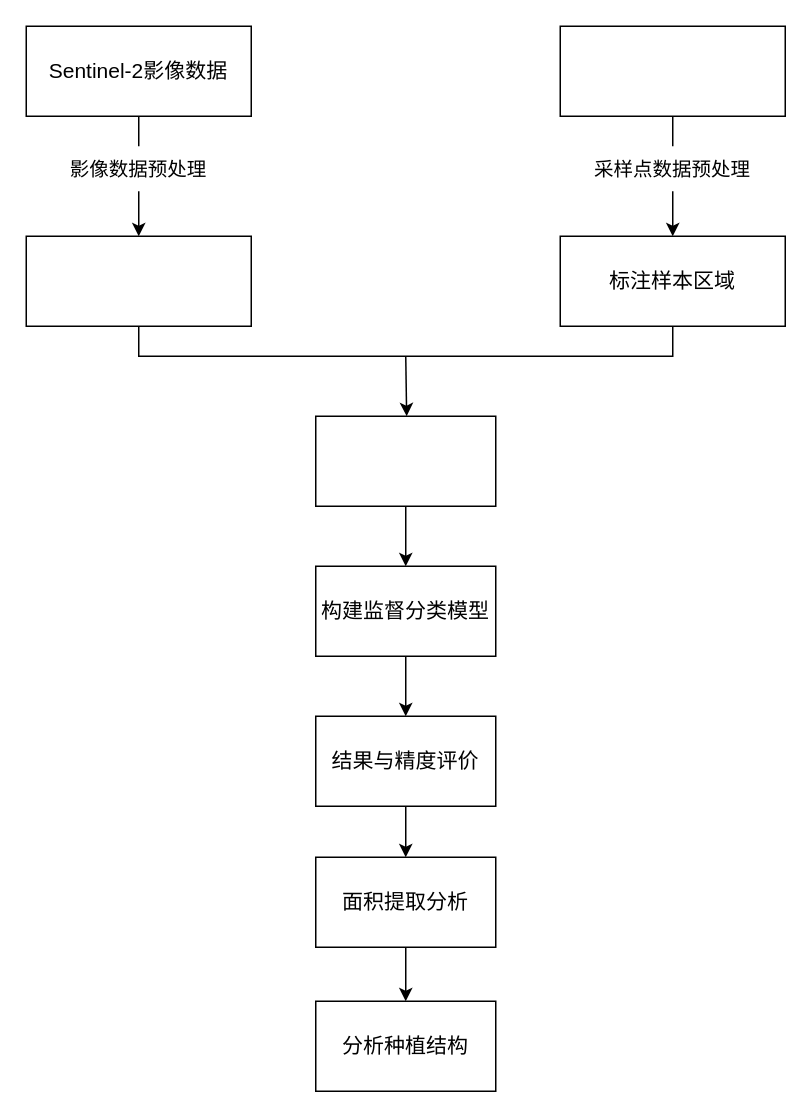
The diagram is 812 pixels wide and 1118 high, and some of its shapes have lost their labels. The shapes that lost their labels are listed below. From the top down, each one's centre as x and y in pixels, then its label:
At (672,70): "实地样本数据".
At (138,280): "研究区遥感影像".
At (405,460): "最大似然分类".
